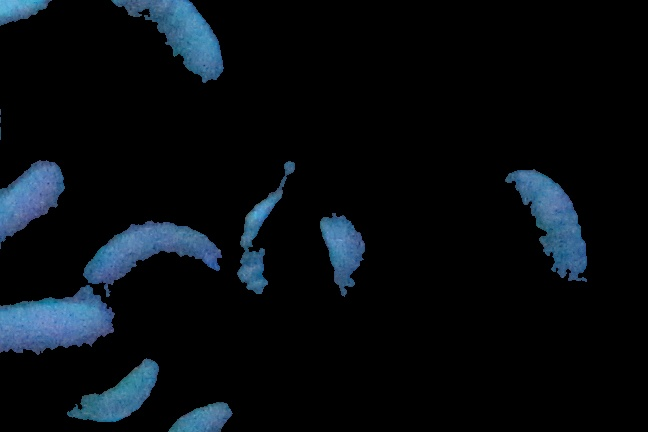larvae: (513, 160, 588, 307), (90, 222, 237, 290), (233, 159, 296, 300), (112, 1, 222, 75), (1, 159, 64, 280), (56, 356, 166, 412), (316, 212, 369, 319), (1, 302, 103, 354), (1, 1, 59, 32), (1, 54, 5, 180)
